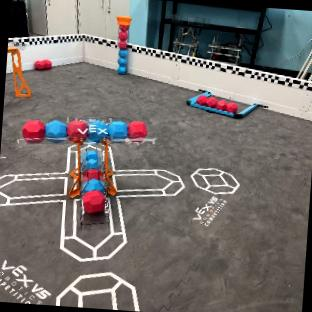V5_BLUE: (88, 120, 109, 140), (44, 120, 66, 137), (109, 120, 127, 137), (117, 49, 127, 73)
V5_RED: (195, 95, 237, 113), (82, 189, 105, 213), (22, 119, 44, 141), (127, 121, 146, 137), (66, 121, 86, 136), (118, 25, 127, 48), (35, 60, 51, 69)
